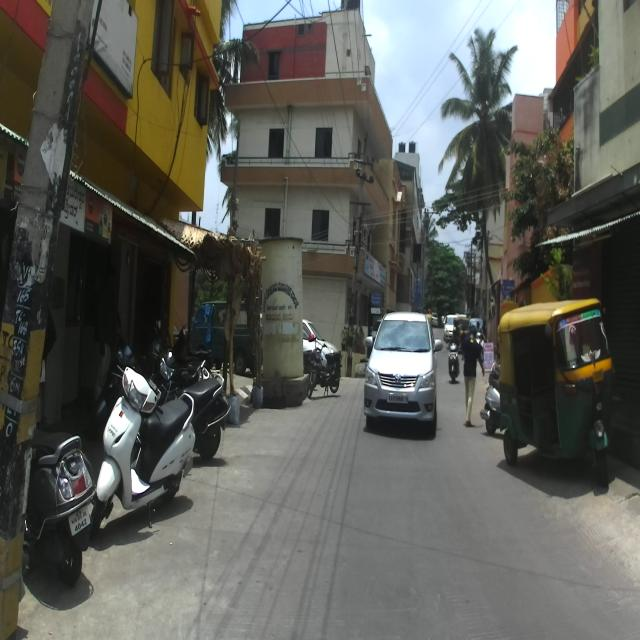auto ahead at: (496, 297, 614, 497)
car ahead at: (364, 307, 442, 440)
motorcycle ahead at: (98, 358, 196, 531), (34, 433, 96, 589)
